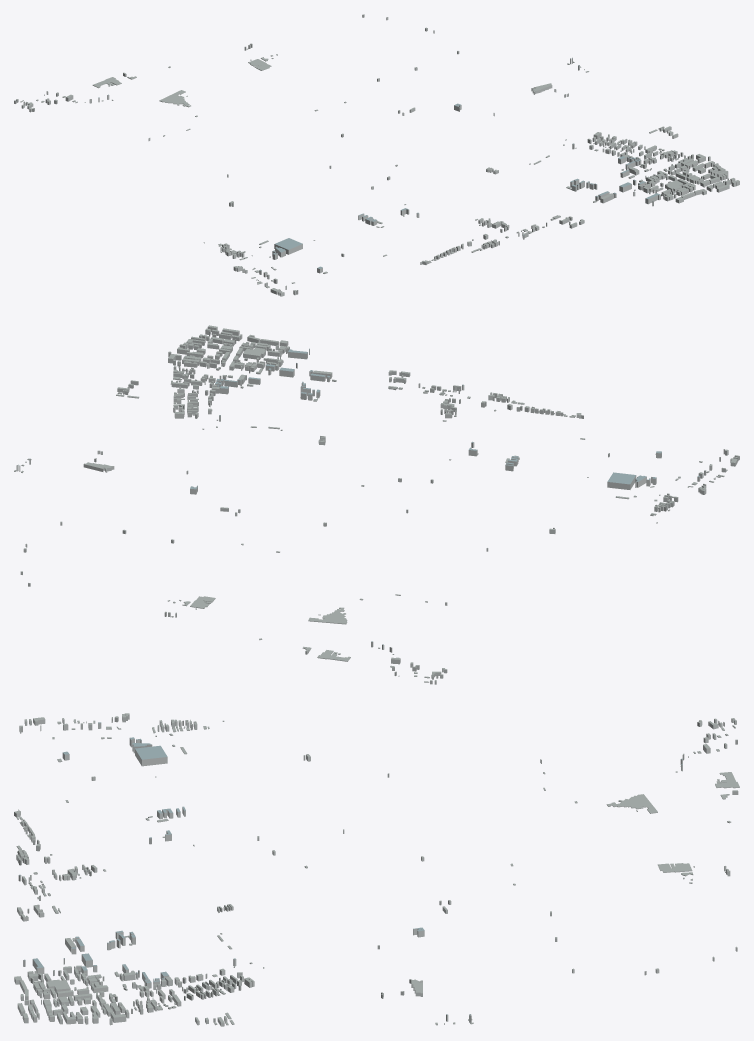
Rendered from far.glb.
3 views of the same model, one above another, from view 1: azimuth 30°, elevation 25°; view 2: azimuth 150°, elevation 25°; view 3: azimuth 270°, elevation 25° (orthographic). The views are drawn at different scales.
Bounding box in the file's own units: 2129 × 24.9 × 2115.
